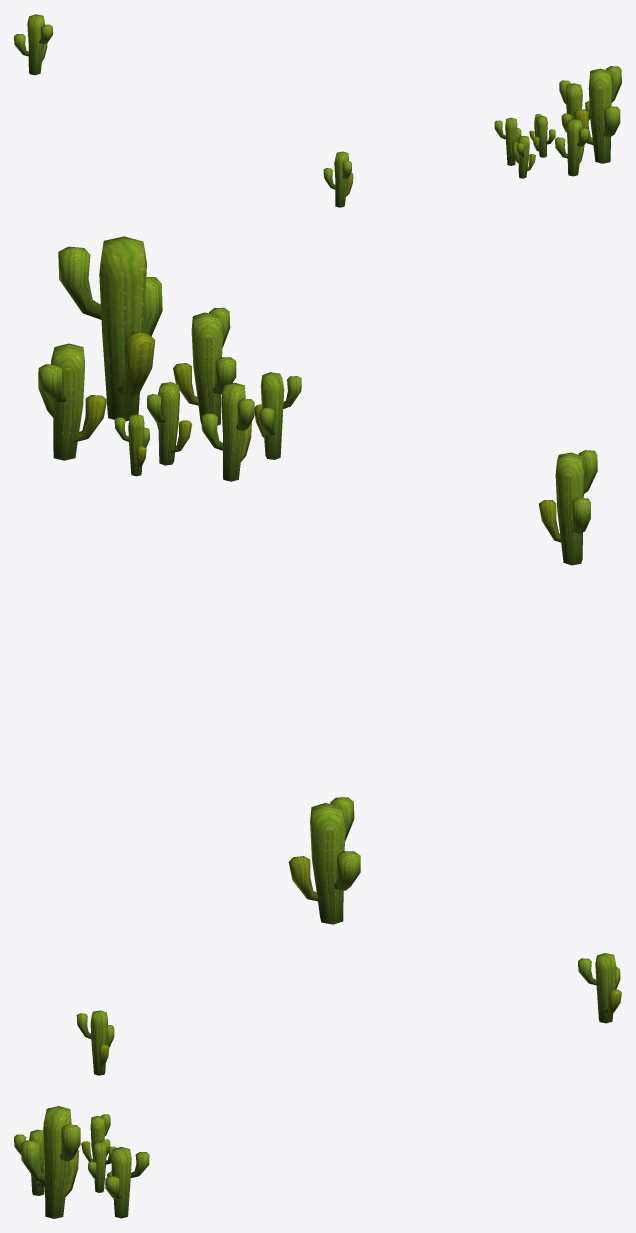
Rendered from xianrenzhang01.fbx.
3 views of the same model, one above another, from view 1: azimuth 30°, elevation 25°; view 2: azimuth 150°, elevation 25°; view 3: azimuth 270°, elevation 25° (orthographic). The views are drawn at different scales.
Visible parts, largest first — view 1: xianrenzhang01; view 2: xianrenzhang01; view 3: xianrenzhang01.
Part boxes in pixels (x1,y1,x2,y2): xianrenzhang01: [14, 14, 621, 207]; xianrenzhang01: [38, 236, 597, 924]; xianrenzhang01: [14, 953, 621, 1218].
Bounding box in the file's own units: 4257 × 962 × 5015.
Materials: 1 (1 with a texture image).
